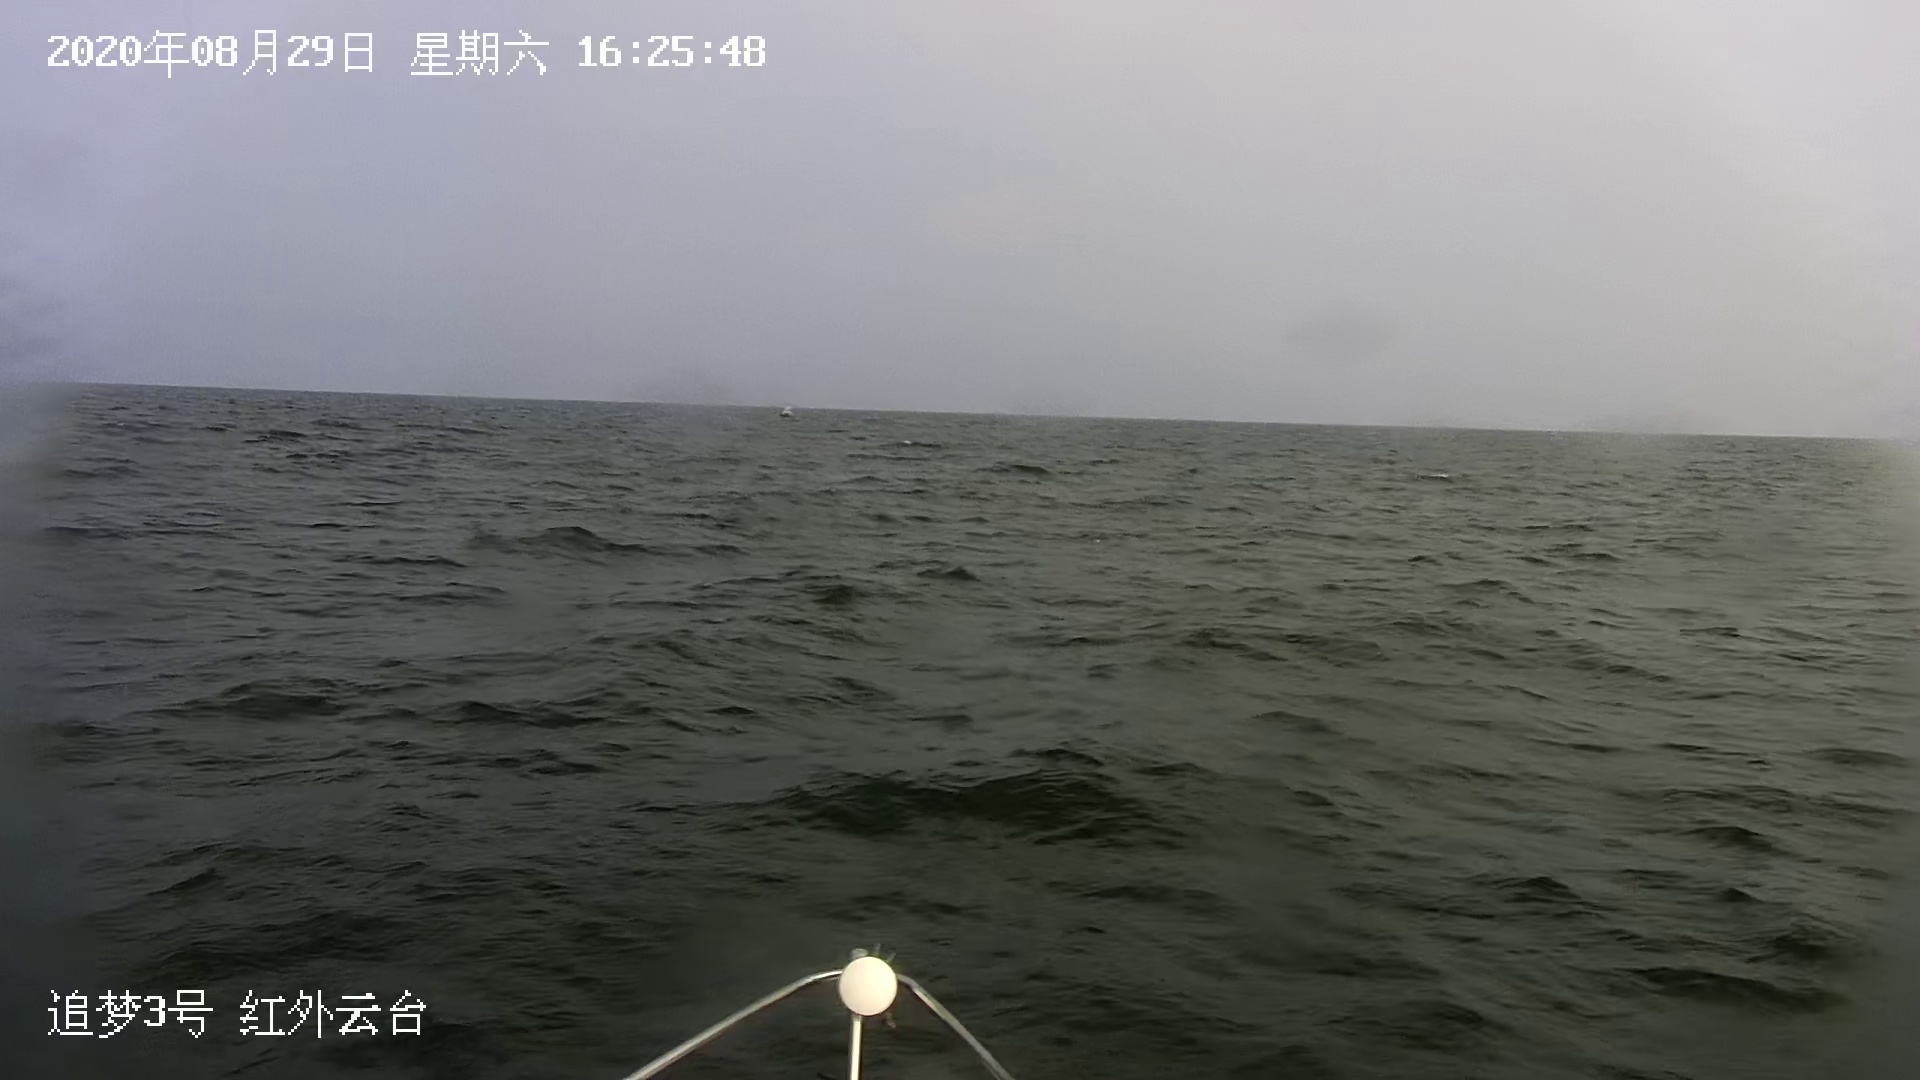barrier: (781, 404, 796, 422)
